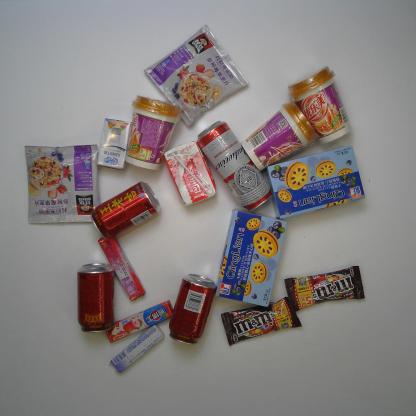Alcohol: (194, 117, 275, 214)
Candy: (102, 296, 176, 344), (96, 235, 145, 304), (108, 323, 170, 376)
Chocolate: (282, 262, 366, 315), (220, 295, 304, 347)
Dessert: (264, 143, 368, 223), (213, 207, 288, 310)
Drink: (91, 179, 162, 239), (169, 270, 219, 348), (73, 258, 119, 335)
Instant Drink: (141, 21, 252, 133), (21, 140, 105, 228), (237, 98, 321, 175), (285, 62, 354, 148), (121, 92, 184, 172)
Milk: (162, 138, 219, 205), (93, 115, 132, 171)
